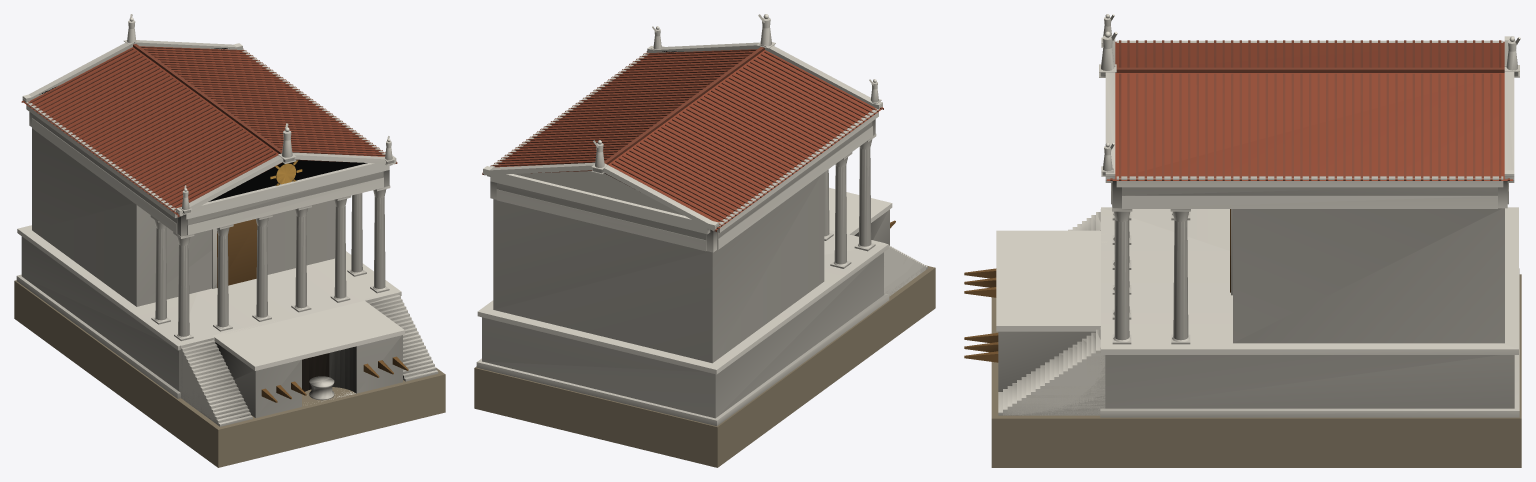
The model's file is rome_divus_julius.glb.
The picture shows the model from 3 angles, left to right: view 1: azimuth 30°, elevation 25°; view 2: azimuth 150°, elevation 25°; view 3: azimuth 270°, elevation 25°; orthographic projection. The views are drawn at different scales.
Visible parts, largest first — view 1: rome_divus_julius; view 2: rome_divus_julius; view 3: rome_divus_julius.
Boxes of the visible parts, box(x1,y1,x2,y2) form: rome_divus_julius: box(14, 14, 445, 467); rome_divus_julius: box(474, 14, 935, 467); rome_divus_julius: box(964, 14, 1521, 467).
Bounding box in the file's own units: 25 × 29.56 × 40.82.
